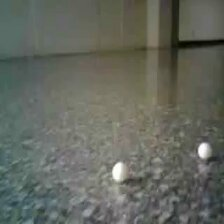w: (111, 161, 128, 182), (197, 143, 211, 160)
